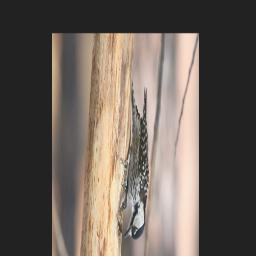Woodpecker: (119, 81, 149, 241)
